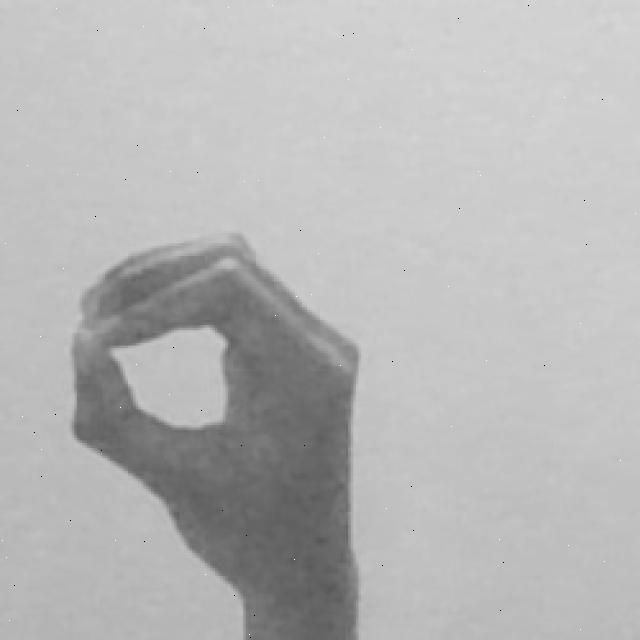O: (65, 224, 368, 640)
